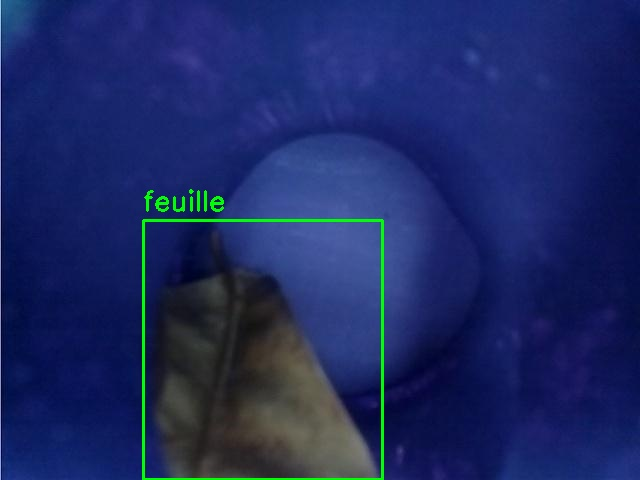feuille: (143, 220, 382, 479)
